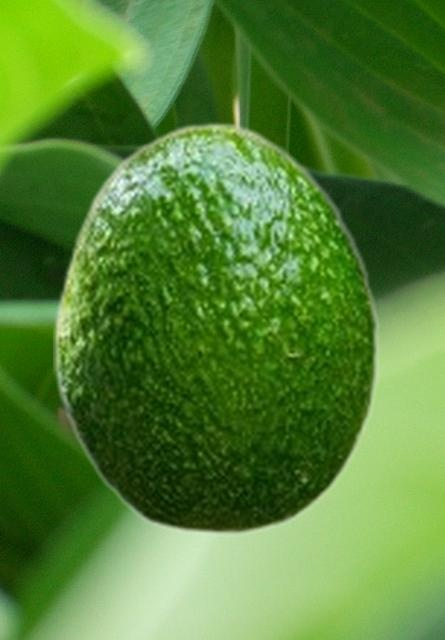avocado: (53, 121, 380, 535)
